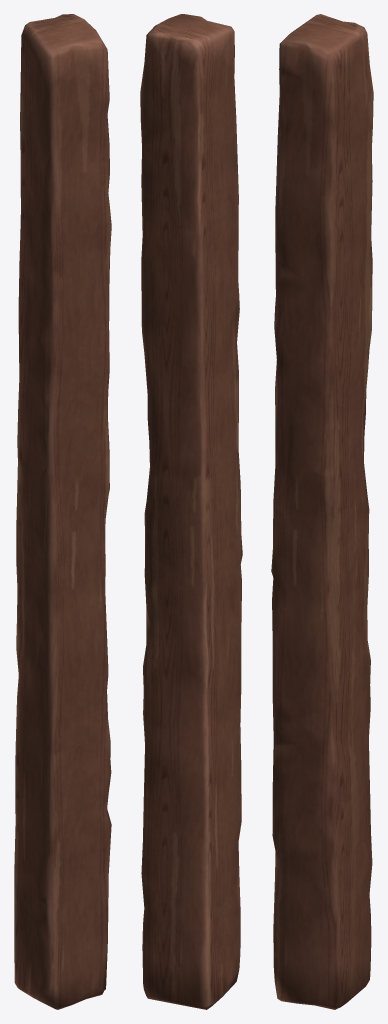
The model's file is SM_Beams_02.fbx.
The picture shows the model from 3 angles, left to right: view 1: azimuth 30°, elevation 25°; view 2: azimuth 150°, elevation 25°; view 3: azimuth 330°, elevation 25°; orthographic projection.
Visible parts, largest first — view 1: SM_Beams_02_LOD0; view 2: SM_Beams_02_LOD0; view 3: SM_Beams_02_LOD0.
Boxes of the visible parts, <box> form: SM_Beams_02_LOD0: <box>14,14,111,1009</box>; SM_Beams_02_LOD0: <box>140,14,242,1009</box>; SM_Beams_02_LOD0: <box>271,14,373,1009</box>.
Size of the model in its own units: 22.05 by 23.29 by 291.
Materials: 1 (1 with a texture image).
